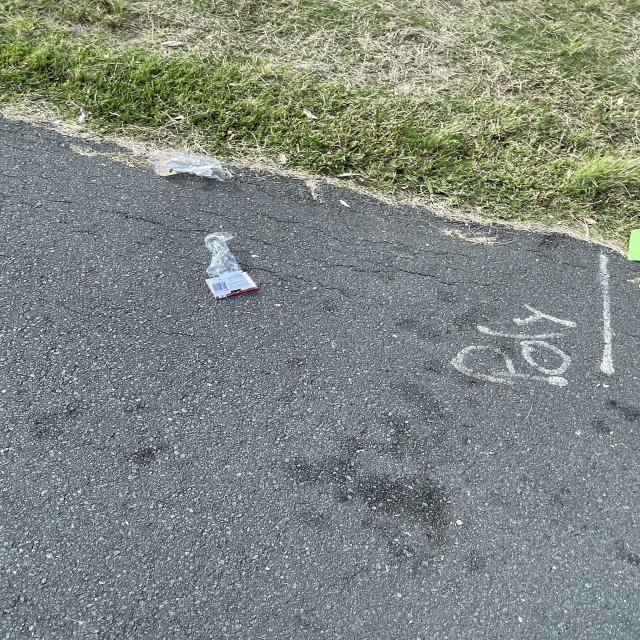bottle: (184, 228, 265, 304), (138, 140, 225, 179)
